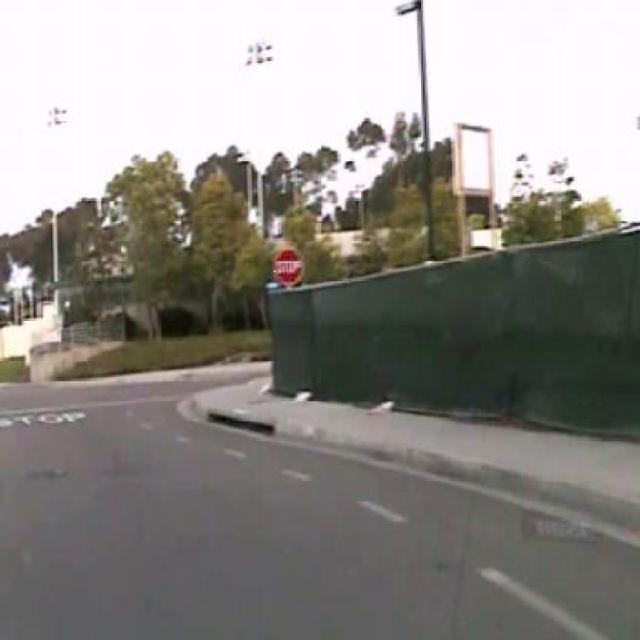stop: (274, 246, 303, 287)
